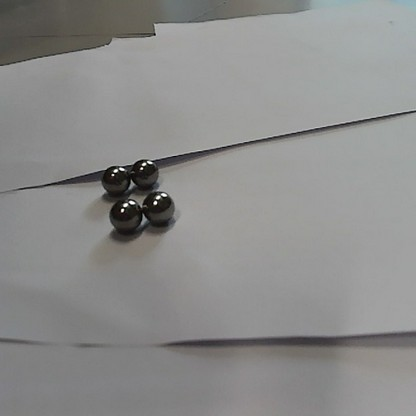ironball: (106, 199, 144, 237), (139, 189, 177, 224), (99, 164, 133, 196), (131, 156, 160, 189)
